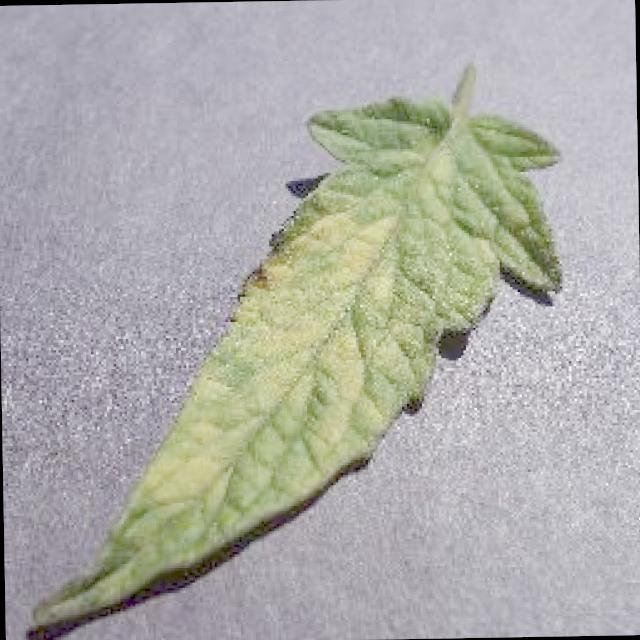Tomato mold leaf: (26, 92, 568, 630)
